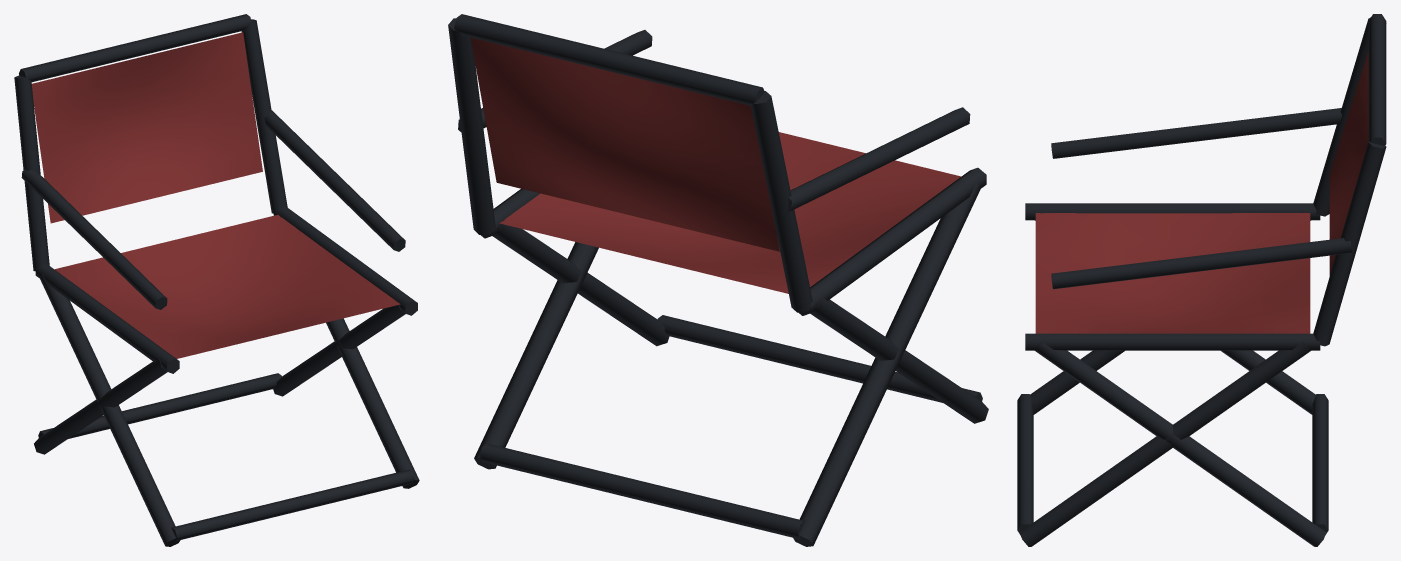
File: chair.glb
3 views of the same model, side by side, from view 1: azimuth 30°, elevation 25°; view 2: azimuth 150°, elevation 25°; view 3: azimuth 270°, elevation 25° (orthographic). The views are drawn at different scales.
Visible parts, largest first — view 1: Chair_Mesh12, Chair_Mesh08, Chair_Mesh01, Chair_Mesh11, Chair_Mesh06, Chair_Mesh10, Chair_Mesh13, Chair_Mesh09, Chair_Mesh04, Chair_Mesh14, Chair_Mesh07, Chair_Mesh02 (+3 smaller); view 2: Chair_Mesh12, Chair_Mesh08, Chair_Mesh00, Chair_Mesh11, Chair_Mesh07, Chair_Mesh03, Chair_Mesh06, Chair_Mesh09, Chair_Mesh10, Chair_Mesh02, Chair_Mesh01, Chair_Mesh04 (+3 smaller); view 3: Chair_Mesh08, Chair_Mesh03, Chair_Mesh04, Chair_Mesh05, Chair_Mesh14, Chair_Mesh13, Chair_Mesh12, Chair_Mesh10, Chair_Mesh02, Chair_Mesh11, Chair_Mesh06, Chair_Mesh07 (+3 smaller).
Boxes of the visible parts, bbox=[...] form: Chair_Mesh12: bbox=[31, 32, 262, 223]; Chair_Mesh08: bbox=[54, 215, 400, 358]; Chair_Mesh01: bbox=[40, 274, 180, 546]; Chair_Mesh11: bbox=[19, 14, 251, 82]; Chair_Mesh06: bbox=[171, 469, 414, 541]; Chair_Mesh10: bbox=[241, 19, 287, 213]; Chair_Mesh13: bbox=[21, 169, 167, 309]; Chair_Mesh09: bbox=[14, 75, 49, 271]; Chair_Mesh04: bbox=[280, 216, 419, 488]; Chair_Mesh14: bbox=[264, 110, 405, 251]; Chair_Mesh07: bbox=[38, 373, 281, 438]; Chair_Mesh02: bbox=[35, 265, 179, 373]; Chair_Mesh12: bbox=[470, 37, 779, 251]; Chair_Mesh08: bbox=[499, 132, 960, 293]; Chair_Mesh00: bbox=[793, 182, 980, 546]; Chair_Mesh11: bbox=[454, 14, 764, 105]; Chair_Mesh07: bbox=[480, 443, 805, 539]; Chair_Mesh03: bbox=[474, 242, 598, 469]; Chair_Mesh06: bbox=[657, 315, 982, 402]; Chair_Mesh09: bbox=[751, 91, 812, 312]; Chair_Mesh10: bbox=[448, 18, 495, 234]; Chair_Mesh02: bbox=[798, 167, 986, 315]; Chair_Mesh01: bbox=[810, 296, 988, 423]; Chair_Mesh04: bbox=[492, 219, 669, 346]; Chair_Mesh08: bbox=[1035, 213, 1310, 333]; Chair_Mesh03: bbox=[1035, 342, 1326, 546]; Chair_Mesh04: bbox=[1019, 342, 1310, 546]; Chair_Mesh05: bbox=[1025, 333, 1320, 350]; Chair_Mesh14: bbox=[1051, 238, 1352, 289]; Chair_Mesh13: bbox=[1051, 108, 1341, 158]; Chair_Mesh12: bbox=[1329, 51, 1368, 275]; Chair_Mesh10: bbox=[1313, 141, 1386, 346]; Chair_Mesh02: bbox=[1025, 203, 1320, 220]; Chair_Mesh11: bbox=[1368, 14, 1386, 145]; Chair_Mesh06: bbox=[1017, 394, 1033, 534]; Chair_Mesh07: bbox=[1312, 394, 1328, 534].
Bounding box in the file's own units: 0.486 × 0.6681 × 0.5505.
